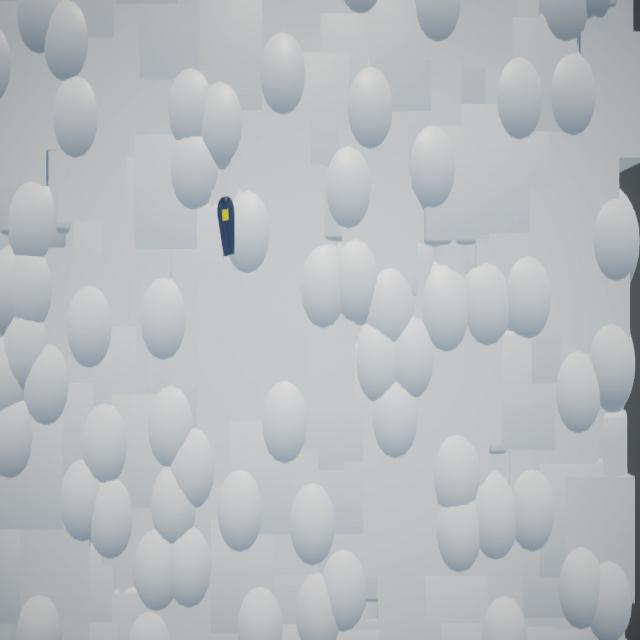handle_folk: (218, 197, 235, 258)
